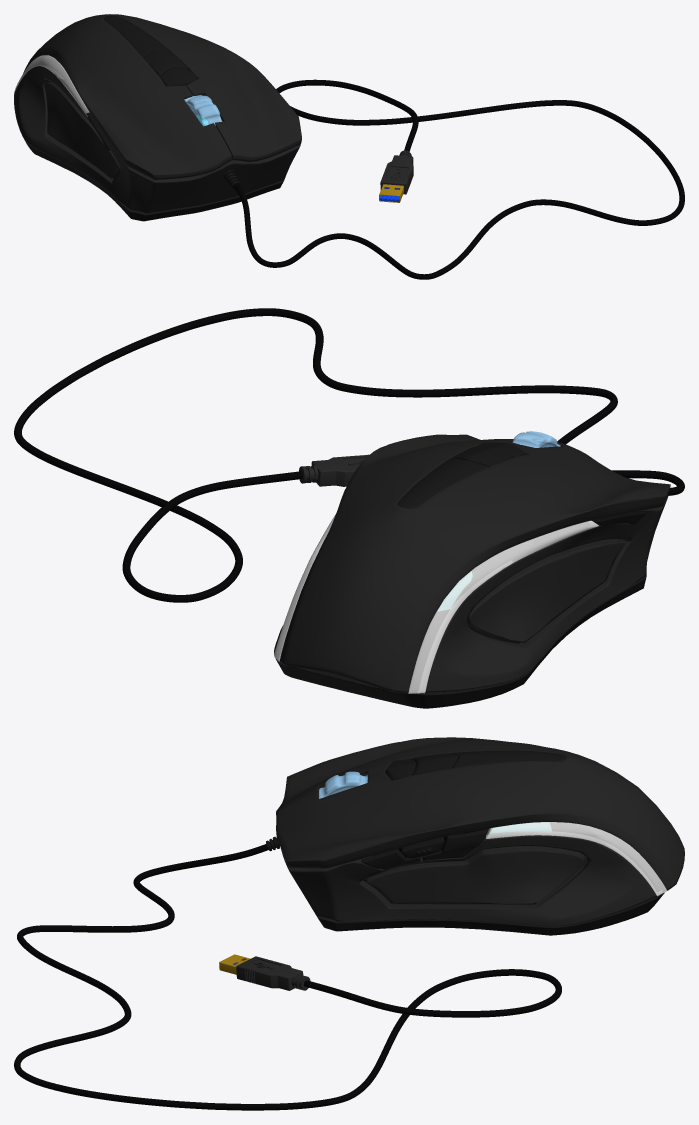
Rendered from gaming_mouse.glb.
3 renders of one model, top to bottom at view 1: azimuth 30°, elevation 25°; view 2: azimuth 150°, elevation 25°; view 3: azimuth 270°, elevation 25°, orthographic. The views are drawn at different scales.
Parts seen in each view (by area): view 1: Mouse_Top, Mouse_Sides, Cord.001, Mouse_TopButtons, Mouse_Bottom, Cord_UsbBody, Mouse_Light_Right, Mouse_Wheel; view 2: Mouse_Top, Mouse_Sides, Cord.001, Mouse_Bottom, Mouse_Light_Right, Mouse_TopButtons, Cord_UsbBody, Mouse_Light_Left; view 3: Mouse_Top, Mouse_Sides, Cord.001, Mouse_Bottom, Mouse_Light_Left, Mouse_TopButtons, Mouse_SideLeftButtons, Cord_UsbBody, Mouse_Wheel.
Boxes of the visible parts, x1,y1,x2,y2 form: Mouse_Top: (23, 14, 301, 179); Mouse_Sides: (14, 66, 300, 214); Cord.001: (234, 79, 684, 279); Mouse_TopButtons: (104, 15, 198, 86); Mouse_Bottom: (24, 73, 283, 221); Cord_UsbBody: (380, 150, 413, 194); Mouse_Light_Right: (14, 55, 89, 116); Mouse_Wheel: (184, 95, 222, 126); Mouse_Top: (279, 434, 670, 693); Mouse_Sides: (274, 494, 668, 692); Cord.001: (14, 308, 684, 602); Mouse_Bottom: (275, 540, 646, 708); Mouse_Light_Right: (408, 520, 598, 693); Mouse_TopButtons: (397, 442, 527, 508); Cord_UsbBody: (299, 454, 368, 486); Mouse_Light_Left: (274, 514, 335, 661); Mouse_Top: (276, 737, 684, 890); Mouse_Sides: (280, 773, 656, 926); Cord.001: (14, 844, 561, 1110); Mouse_Bottom: (318, 834, 664, 935); Mouse_Light_Left: (486, 822, 666, 896); Mouse_TopButtons: (385, 750, 566, 780); Mouse_SideLeftButtons: (361, 829, 488, 869); Cord_UsbBody: (236, 956, 310, 990); Mouse_Wheel: (319, 771, 367, 798).
Size of the model in its own units: 17.42 by 4.08 by 18.09.
